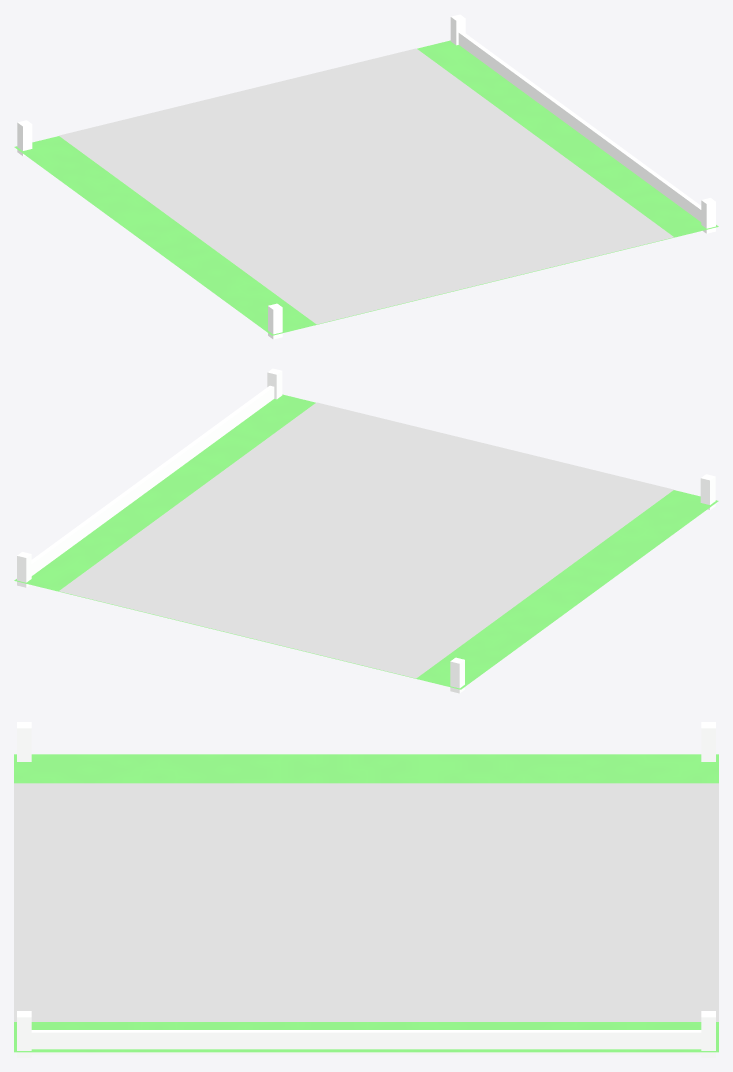
File: tile_for_home_1x1.010.glb
3 views of the same model, one above another, from view 1: azimuth 30°, elevation 25°; view 2: azimuth 150°, elevation 25°; view 3: azimuth 270°, elevation 25° (orthographic). The views are drawn at different scales.
Visible parts, largest first — view 1: tile_for_home_1x1.010(Clone); view 2: tile_for_home_1x1.010(Clone); view 3: tile_for_home_1x1.010(Clone).
Part boxes in pixels (x1,y1,x2,y2): tile_for_home_1x1.010(Clone): (14, 14, 718, 339); tile_for_home_1x1.010(Clone): (14, 368, 718, 693); tile_for_home_1x1.010(Clone): (14, 722, 718, 1057).
Bounding box in the file's own units: 8 × 0.5088 × 8.
Materials: 1 (1 with a texture image).
